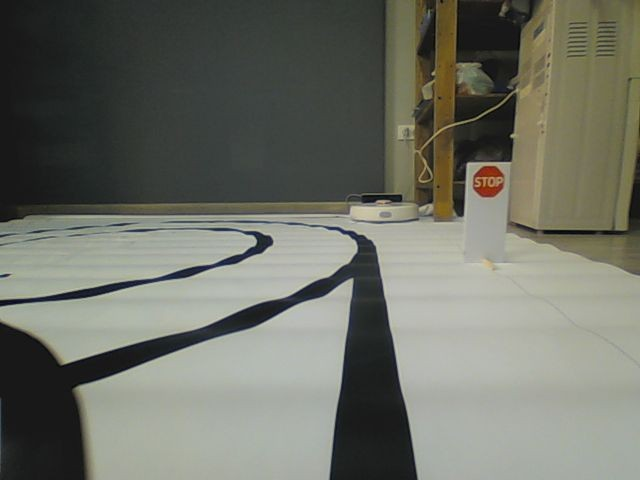Stop: (472, 164, 505, 199)
